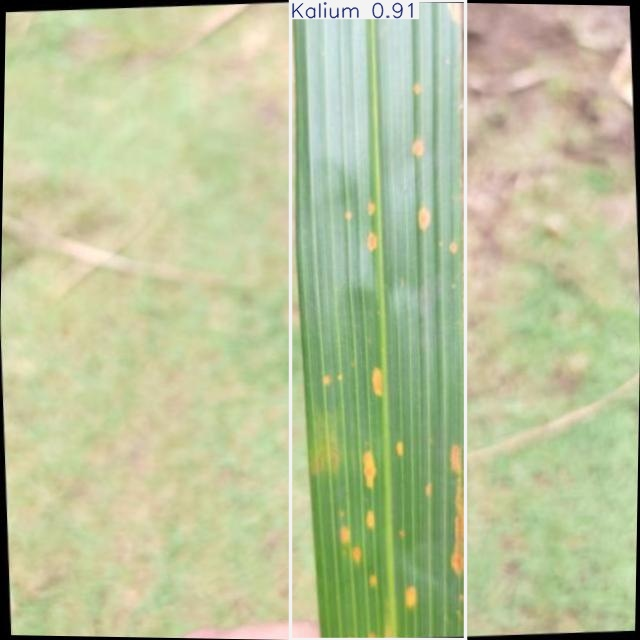Kalium: (291, 1, 466, 640)
